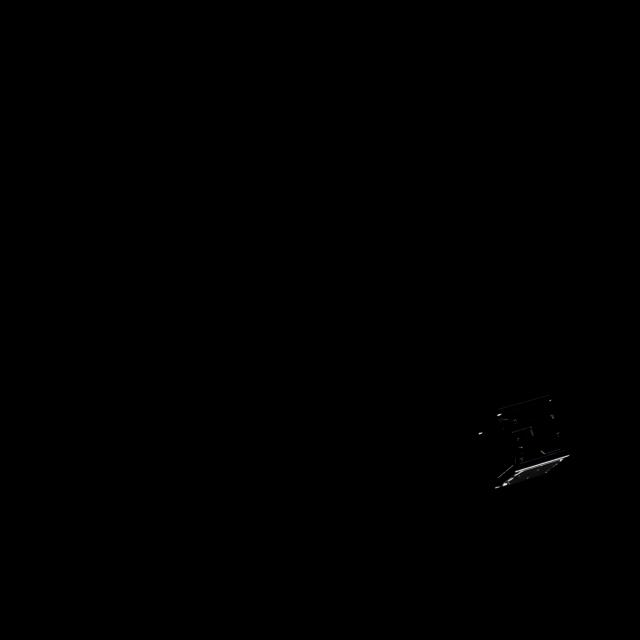medium_debris: (465, 386, 577, 491)
